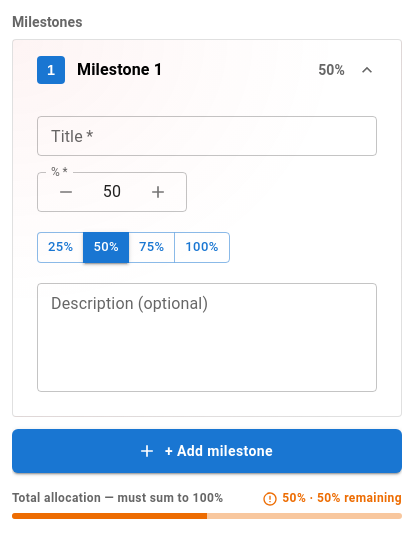
Test case: MilestoneEditor › sets a milestone's percentage via the quick-share presets
Click the button named "Set 100%" at (202, 247), box [174,232,230,263]
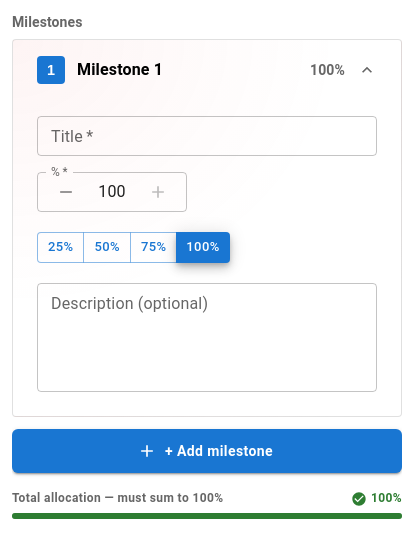
expect the number field labelled "% *" holds "100": met, box [89,172,135,212]
expect the text "100%" next to "Total allocation — must sum to 100%" is shown: met, box [371,489,402,509]
